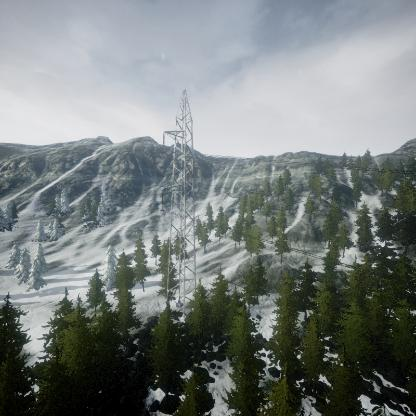tower: (156, 88, 203, 316)
